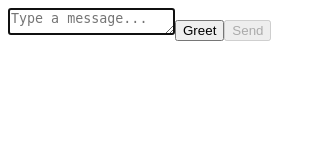
Scenario: composer toolbar › hands the controls to a custom item in the plain input
What coordinates should you click on to do the following:
click the button "Greet"
I would click on:
 (200, 30)
Its box is 175,20 -> 224,41.
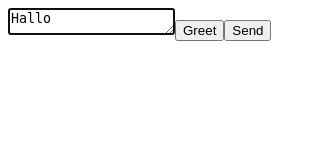
expect the text box holds "Hallo": met, box 8,8 -> 175,35
